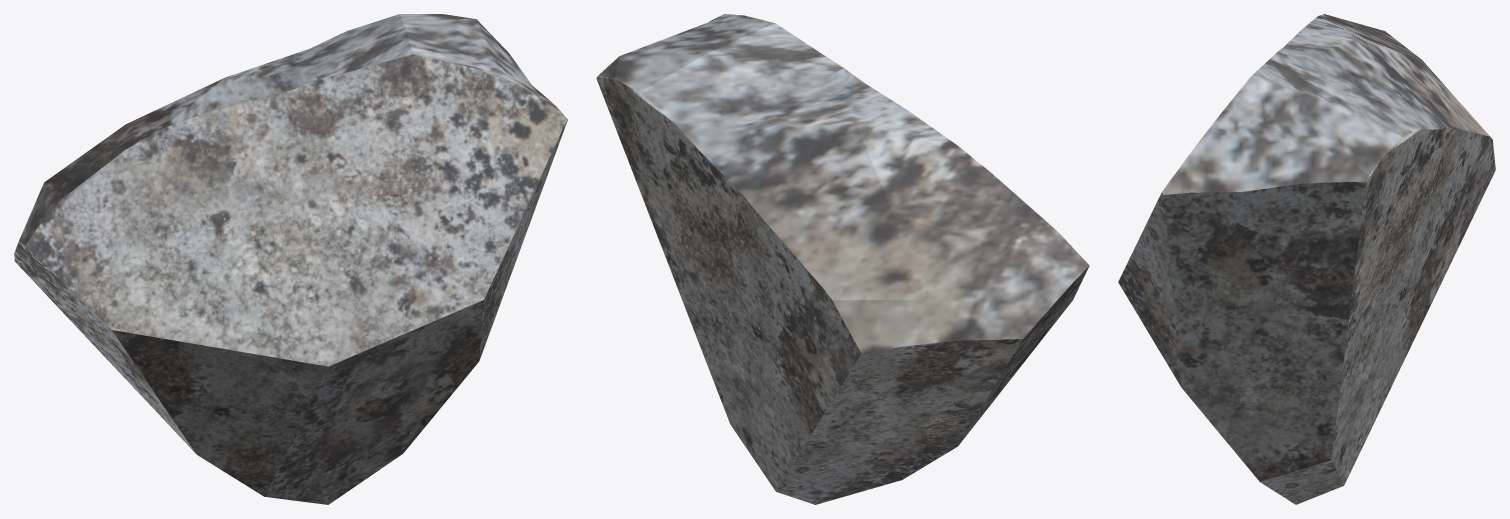
The model's file is Asteroid_Medium_001_02_006_03_010.fbx.
The picture shows the model from 3 angles, left to right: view 1: azimuth 30°, elevation 25°; view 2: azimuth 150°, elevation 25°; view 3: azimuth 270°, elevation 25°; orthographic projection.
Parts seen in each view (by area): view 1: Asteroid_Medium_001_02_006_03_010; view 2: Asteroid_Medium_001_02_006_03_010; view 3: Asteroid_Medium_001_02_006_03_010.
Boxes of the visible parts, x1,y1,x2,y2 form: Asteroid_Medium_001_02_006_03_010: (14,14,567,504); Asteroid_Medium_001_02_006_03_010: (596,14,1089,504); Asteroid_Medium_001_02_006_03_010: (1118,14,1495,504).
Size of the model in its own units: 16.16 by 14.72 by 10.97.
